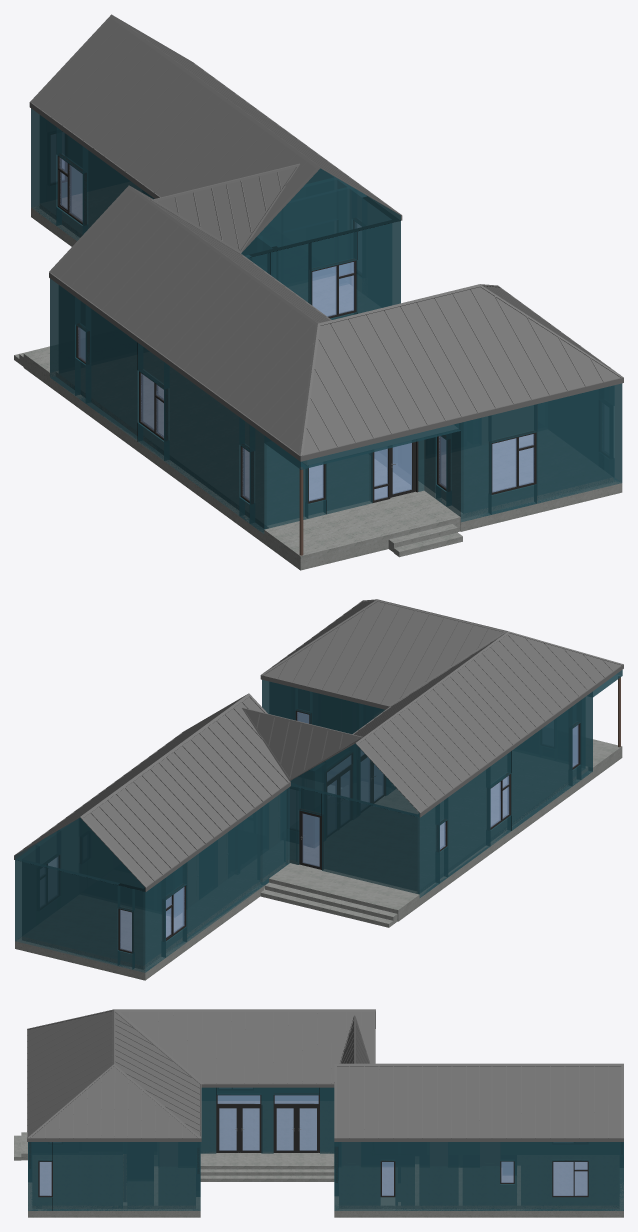
Rendered from trial.glb.
3 views of the same model, one above another, from view 1: azimuth 30°, elevation 25°; view 2: azimuth 150°, elevation 25°; view 3: azimuth 270°, elevation 25° (orthographic). The views are drawn at different scales.
Visible parts, largest first — view 1: C STANDARD MODEL- 17; view 2: C STANDARD MODEL- 17; view 3: C STANDARD MODEL- 17.
Boxes of the visible parts, x1,y1,x2,y2 form: C STANDARD MODEL- 17: (14, 14, 623, 570); C STANDARD MODEL- 17: (14, 599, 623, 980); C STANDARD MODEL- 17: (14, 1009, 623, 1217).
Size of the model in its own units: 425 by 230 by 1003.
15 materials, 1 textured.
